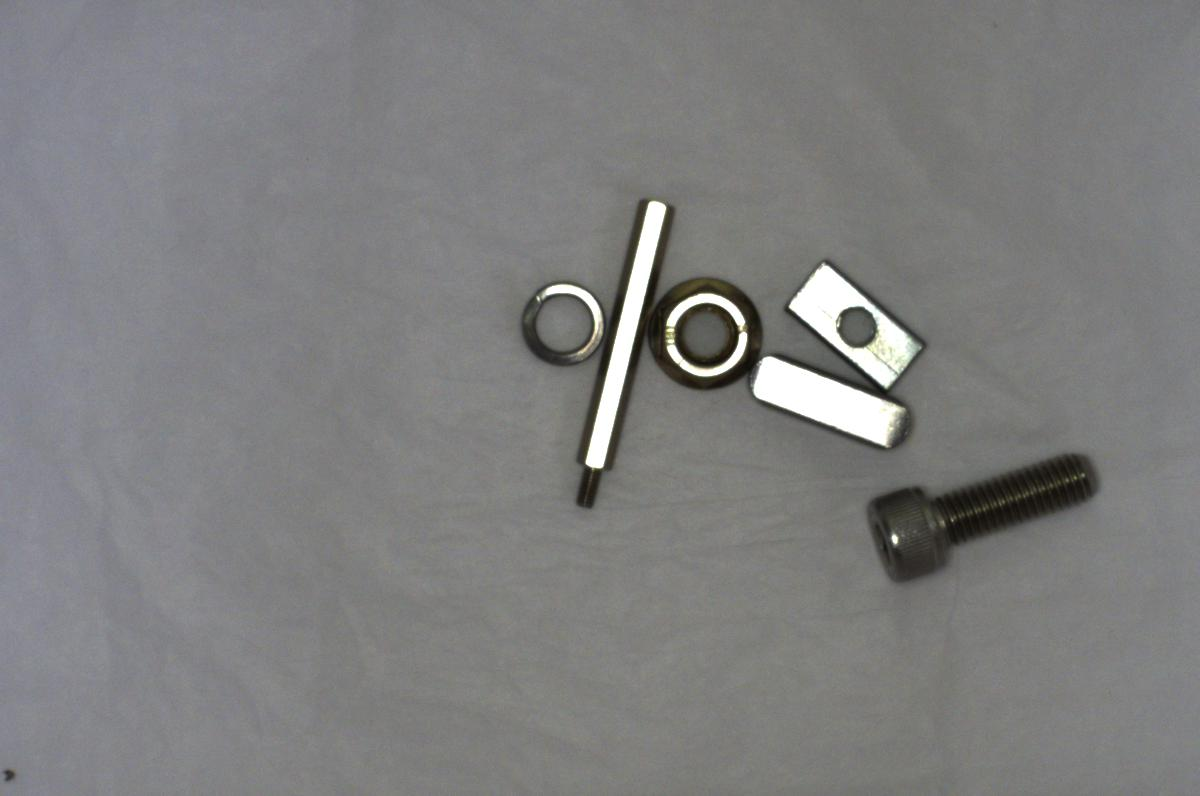Flange nut: (642, 274, 761, 395)
Hexagon screw: (855, 442, 1111, 589)
Hexagonal steel column: (562, 191, 673, 513)
Keybar: (743, 342, 907, 453)
Rectangular nut: (792, 255, 924, 385)
Spring washer: (519, 274, 608, 369)
